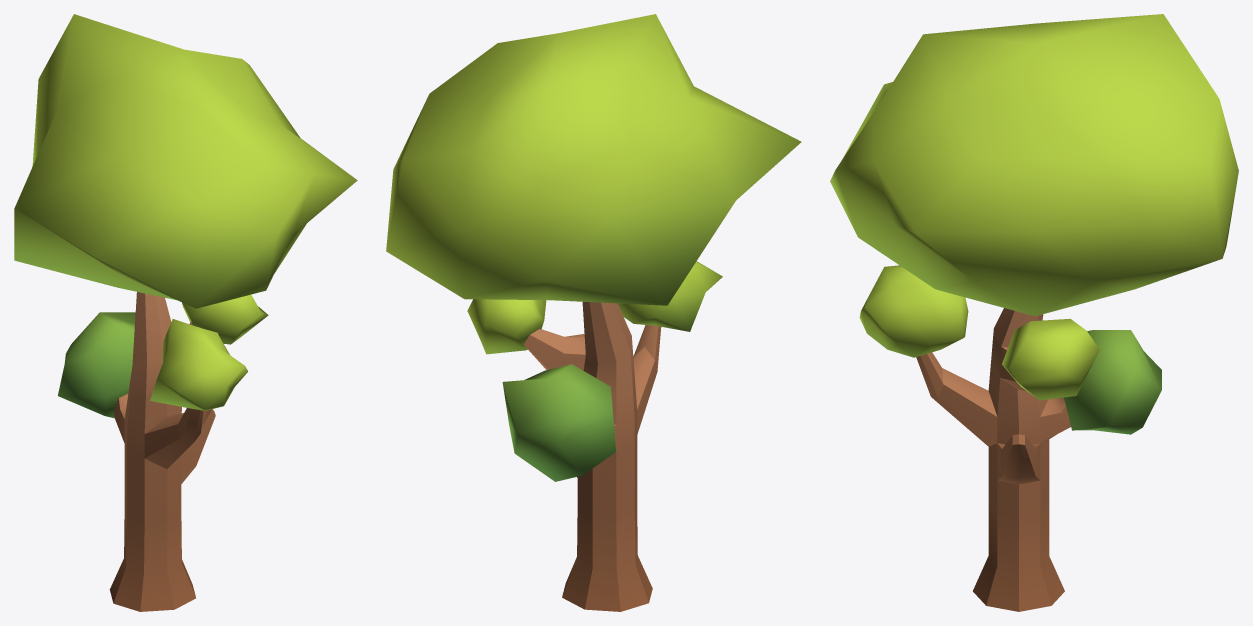
The model's file is TREE004.fbx.
The picture shows the model from 3 angles, left to right: view 1: azimuth 30°, elevation 25°; view 2: azimuth 150°, elevation 25°; view 3: azimuth 270°, elevation 25°; orthographic projection. The views are drawn at different scales.
Visible parts, largest first — view 1: polySurface12; view 2: polySurface12; view 3: polySurface12.
Part boxes in pixels (x1,y1,x2,y2): polySurface12: [14, 14, 357, 611]; polySurface12: [386, 14, 801, 611]; polySurface12: [830, 14, 1238, 611].
Size of the model in its own units: 5.94 by 10.54 by 6.84.
1 material, 1 textured.
